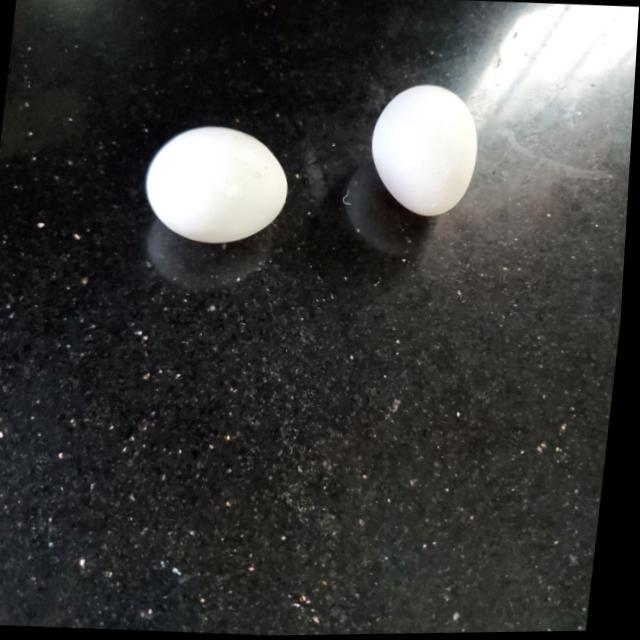egg: (141, 123, 297, 254), (363, 81, 488, 218)
